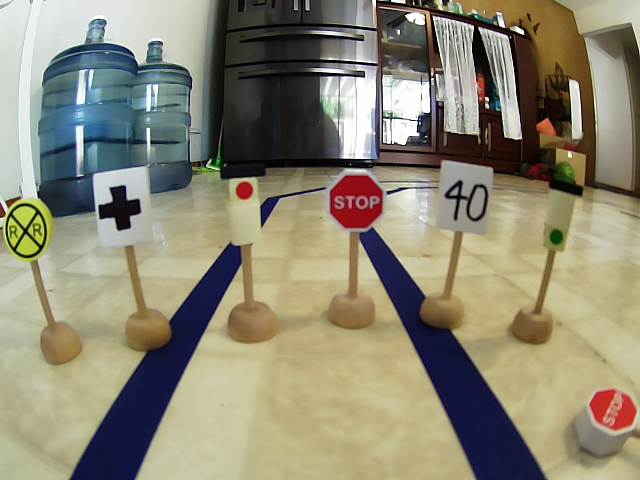40: (437, 158, 492, 238)
green: (541, 178, 584, 257)
plus: (90, 165, 161, 246)
rail: (2, 195, 56, 264)
red: (217, 168, 270, 247)
stop: (327, 166, 390, 231)
